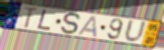9: (107, 18, 125, 41)
A: (76, 15, 98, 39)
L: (37, 9, 53, 31)
S: (60, 11, 82, 36)
T: (23, 6, 39, 30)
U: (123, 18, 148, 44)
